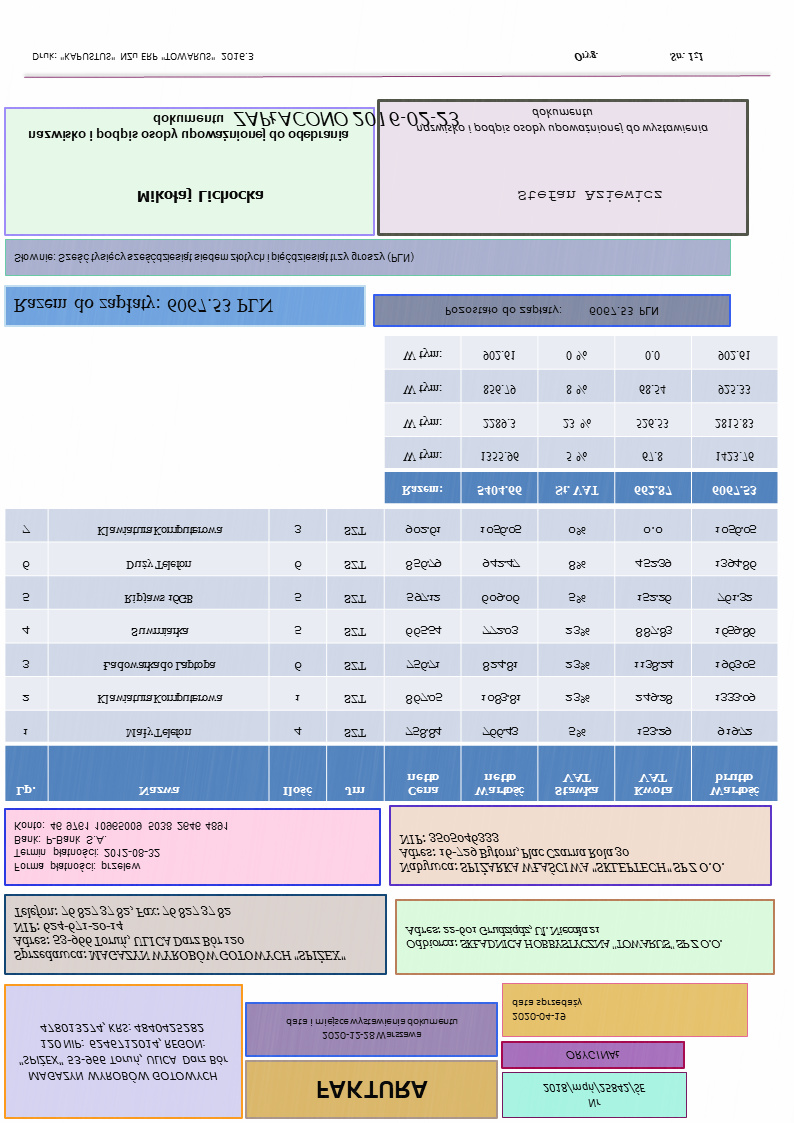Table: (3, 506, 780, 804), (382, 334, 778, 505)
TextBox: (11, 901, 349, 968), (397, 829, 728, 879), (16, 1019, 230, 1086), (11, 818, 231, 876), (402, 923, 723, 954), (415, 106, 710, 139), (24, 112, 348, 142), (12, 249, 415, 268), (10, 292, 276, 318), (233, 104, 465, 131), (282, 1013, 461, 1044), (28, 48, 256, 67), (442, 302, 661, 319), (540, 1078, 646, 1110), (134, 186, 267, 210), (515, 186, 665, 205), (313, 1077, 431, 1101), (508, 991, 584, 1026), (571, 50, 707, 66), (563, 1046, 622, 1064)
